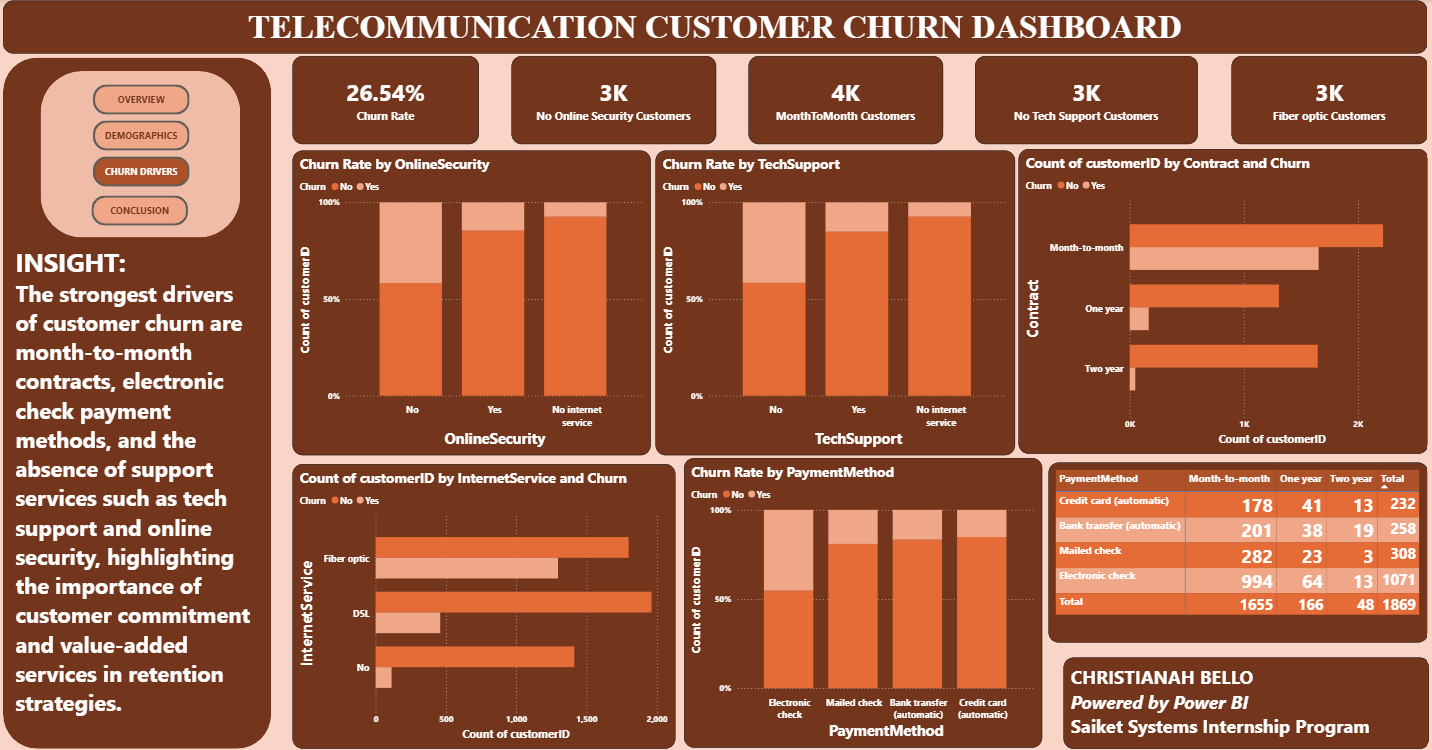

The page's visual inventory and layout, read from the dashboard file:
{"tool":"powerbi","page":{"name":"Churn Drivers Analysis","canvas":[2100,1100],"ordinal":2},"visuals":[{"type":"shape","box":[9.7,85.1,391.2,1008.5],"z":0},{"type":"cardVisual","fields":{"Data":["Telco_Customer_Churn_Dataset  (2).Churn Rate %"]},"box":[430.1,82.6,272.2,128.8],"z":1000},{"type":"clusteredBarChart","title":"Count of customerID by Contract and Churn","fields":{"Y":["CountNonNull(Telco_Customer_Churn_Dataset  (2).customerID)"],"Category":["Telco_Customer_Churn_Dataset  (2).Contract"],"Series":["Telco_Customer_Churn_Dataset  (2).Churn"]},"box":[1489.7,218.7,597.8,444.7],"z":4000},{"type":"hundredPercentStackedColumnChart","title":"Churn Rate by PaymentMethod","fields":{"Series":["Telco_Customer_Churn_Dataset  (2).Churn"],"Y":["CountNonNull(Telco_Customer_Churn_Dataset  (2).customerID)"],"Category":["Telco_Customer_Churn_Dataset  (2).PaymentMethod"]},"box":[1001.2,670.7,522.5,422.8],"z":5000},{"type":"clusteredBarChart","fields":{"Series":["Telco_Customer_Churn_Dataset  (2).Churn"],"Y":["CountNonNull(Telco_Customer_Churn_Dataset  (2).customerID)"],"Category":["Telco_Customer_Churn_Dataset  (2).InternetService"]},"box":[430.1,678,558.9,415.5],"z":6000},{"type":"hundredPercentStackedColumnChart","title":"Churn Rate by TechSupport ","fields":{"Y":["CountNonNull(Telco_Customer_Churn_Dataset  (2).customerID)"],"Category":["Telco_Customer_Churn_Dataset  (2).TechSupport"],"Series":["Telco_Customer_Churn_Dataset  (2).Churn"]},"box":[959.9,221.1,524.9,444.7],"z":7000},{"type":"hundredPercentStackedColumnChart","title":"Churn Rate by OnlineSecurity ","fields":{"Category":["Telco_Customer_Churn_Dataset  (2).OnlineSecurity"],"Y":["CountNonNull(Telco_Customer_Churn_Dataset  (2).customerID)"],"Series":["Telco_Customer_Churn_Dataset  (2).Churn"]},"box":[430.1,221.1,522.5,444.7],"z":9000},{"type":"pivotTable","fields":{"Values":["Telco_Customer_Churn_Dataset  (2).Churned Customers"],"Columns":["Telco_Customer_Churn_Dataset  (2).Contract"],"Rows":["Telco_Customer_Churn_Dataset  (2).PaymentMethod"]},"box":[1533.4,675.6,554.1,262.5],"z":10000},{"type":"cardVisual","fields":{"Data":["Telco_Customer_Churn_Dataset  (2).No Tech Support Customers"]},"box":[1427.7,82.6,325.6,128.8],"z":11000},{"type":"cardVisual","fields":{"Data":["Telco_Customer_Churn_Dataset  (2).No Online Security Customers"]},"box":[749.7,82.6,298.9,128.8],"z":12000},{"type":"cardVisual","fields":{"Data":["Telco_Customer_Churn_Dataset  (2).MonthToMonth Customers"]},"box":[1096,82.6,284.3,128.8],"z":13000},{"type":"cardVisual","fields":{"Data":["Telco_Customer_Churn_Dataset  (2).Fiber optic Customers"]},"box":[1800.7,82.6,286.8,128.8],"z":14000},{"type":"shape","box":[63.2,104.5,291.6,243],"z":15000},{"type":"actionButton","box":[140.9,123.9,140.9,43.7],"z":16000},{"type":"actionButton","box":[140.9,177.4,140.9,43.7],"z":17000},{"type":"actionButton","box":[140.9,230.9,140.9,43.7],"z":18000},{"type":"textbox","box":[1555.3,959.9,534.6,133.7],"z":20000},{"type":"textbox","box":[21.9,352.4,362.1,702.3],"z":21000},{"type":"textbox","box":[9.7,2.4,2077.7,77],"z":22000},{"type":"actionButton","box":[138.5,286.8,140.9,43.7],"z":23000}]}

Visuals, with their boxes in screenshot pixels (x1, y1, x2, y2), scaled from the page's 2100x1100 canvas onto the 1432x750 screenshot:
shape: box=[7, 58, 273, 746]
cardVisual - Telco_Customer_Churn_Dataset  (2).Churn Rate %: box=[293, 56, 479, 144]
"Count of customerID by Contract and Churn" clusteredBarChart: box=[1016, 149, 1423, 452]
"Churn Rate by PaymentMethod" hundredPercentStackedColumnChart: box=[683, 457, 1039, 746]
clusteredBarChart - Telco_Customer_Churn_Dataset  (2).Churn x CountNonNull(Telco_Customer_Churn_Dataset  (2).customerID): box=[293, 462, 674, 746]
"Churn Rate by TechSupport " hundredPercentStackedColumnChart: box=[655, 151, 1012, 454]
"Churn Rate by OnlineSecurity " hundredPercentStackedColumnChart: box=[293, 151, 650, 454]
pivotTable - Telco_Customer_Churn_Dataset  (2).Churned Customers x Telco_Customer_Churn_Dataset  (2).Contract: box=[1046, 461, 1423, 640]
cardVisual - Telco_Customer_Churn_Dataset  (2).No Tech Support Customers: box=[974, 56, 1196, 144]
cardVisual - Telco_Customer_Churn_Dataset  (2).No Online Security Customers: box=[511, 56, 715, 144]
cardVisual - Telco_Customer_Churn_Dataset  (2).MonthToMonth Customers: box=[747, 56, 941, 144]
cardVisual - Telco_Customer_Churn_Dataset  (2).Fiber optic Customers: box=[1228, 56, 1423, 144]
shape: box=[43, 71, 242, 237]
actionButton: box=[96, 84, 192, 114]
actionButton: box=[96, 121, 192, 151]
actionButton: box=[96, 157, 192, 187]
textbox: box=[1061, 654, 1425, 746]
textbox: box=[15, 240, 262, 719]
textbox: box=[7, 2, 1423, 54]
actionButton: box=[94, 196, 191, 225]
